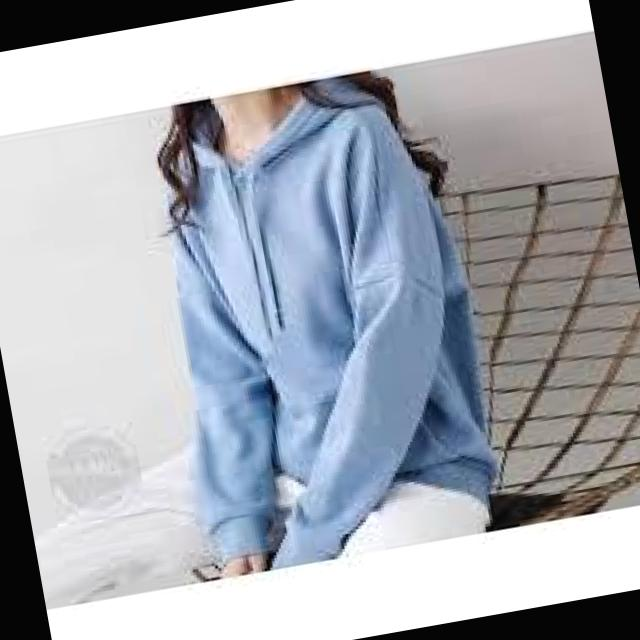sweater: (144, 84, 501, 524)
